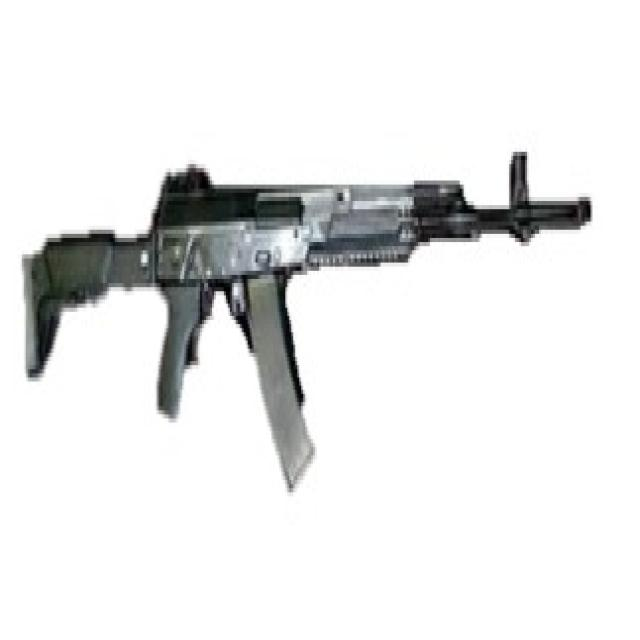rifle: (20, 133, 595, 496)
